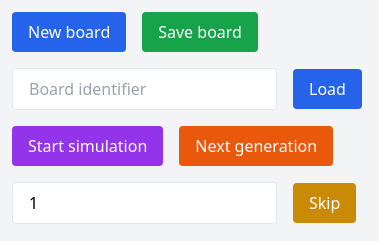
Test: Controls › handles simulation start/stop
// Start simulation
Click the button with test id "simulation-button" at (88, 146), box [12,126,163,166]
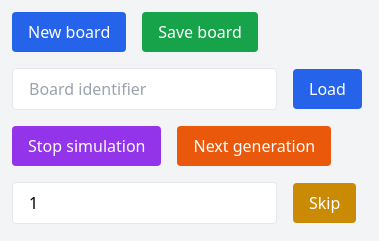
Expected: the button with test id "simulation-button" reads "Stop simulation"
// Stop simulation
Click the button with test id "simulation-button" at (87, 146), box [12,126,162,166]
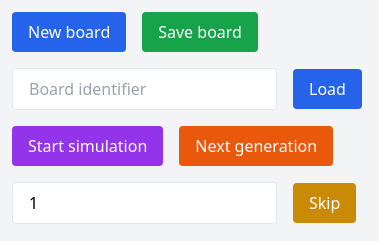
Expected: the button with test id "simulation-button" reads "Start simulation", [12,126,163,166]
